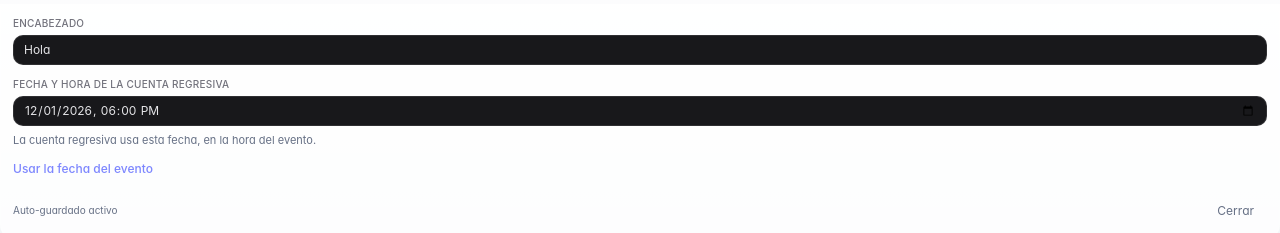
Test: SectionConfigEditor countdown date › shows the section date and resets it to the event date
Check: the field labelled "Fecha y hora de la cuenta regresiva" holds "2026-12-01T18:00", box [13, 96, 1267, 126]
Check: the text "La cuenta regresiva usa esta fecha, en la hora del evento." is shown, box [13, 133, 316, 147]
Click the button "Usar la fecha del evento": (83, 168) [13, 160, 153, 176]
Wait 800 ms
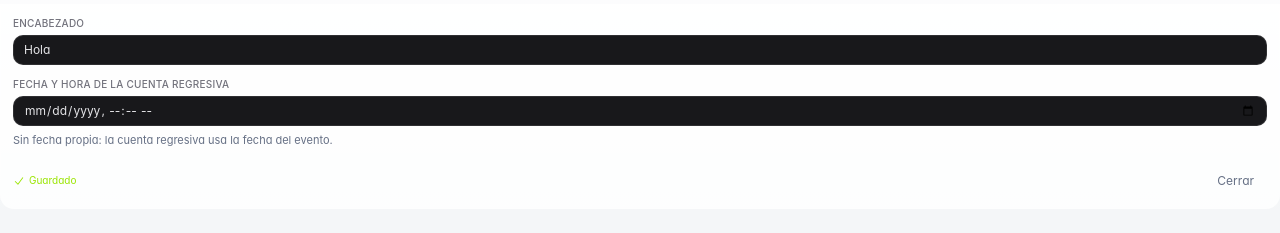
Check: the field labelled "Fecha y hora de la cuenta regresiva" is empty, box [13, 96, 1267, 126]
Check: the text "Sin fecha propia: la cuenta regresiva usa la fecha del evento." is shown, box [13, 133, 333, 147]
Check: the button "Usar la fecha del evento" is gone
